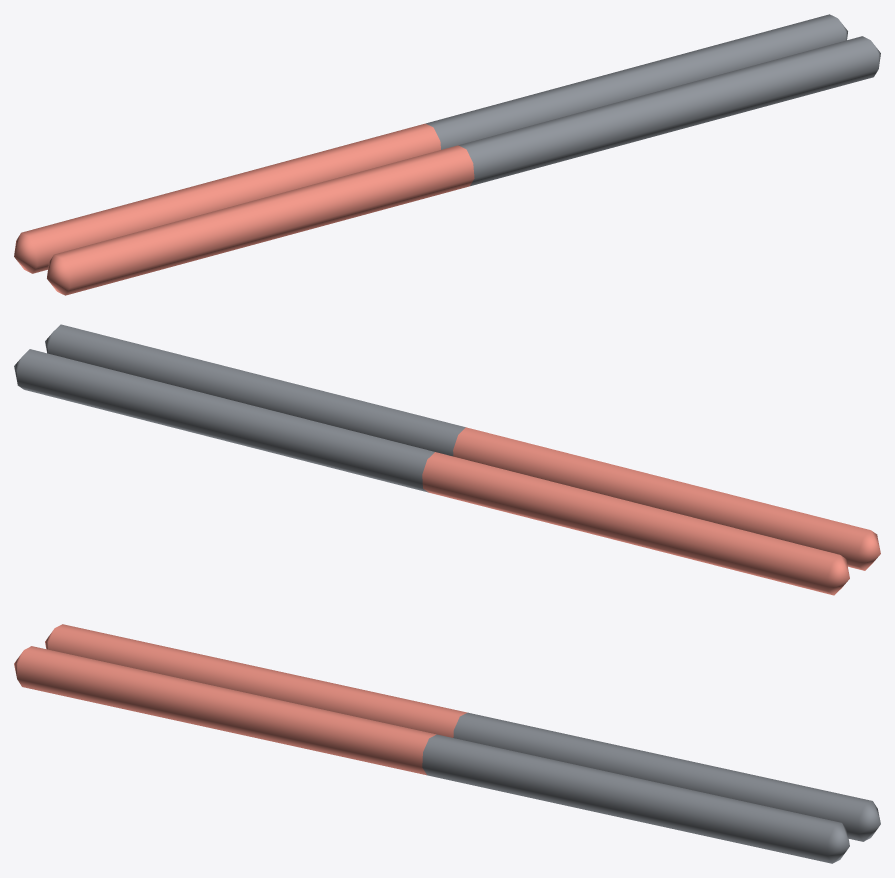
File: pi_napqi_C1O.glb
The picture shows the model from 3 angles, top to bottom: view 1: azimuth 30°, elevation 25°; view 2: azimuth 150°, elevation 25°; view 3: azimuth 330°, elevation 25°; orthographic projection.
Parts seen in each view (by area): view 1: node-geom29, node-geom28, node-geom27, node-geom26; view 2: node-geom27, node-geom26, node-geom29, node-geom28; view 3: node-geom28, node-geom29, node-geom26, node-geom27.
Boxes of the visible parts, x1,y1,x2,y2 form: node-geom29: (47,145,474,295); node-geom28: (458,36,880,186); node-geom27: (14,123,440,273); node-geom26: (426,14,847,149); node-geom27: (422,452,849,595); node-geom26: (14,349,434,492); node-geom29: (453,427,880,570); node-geom28: (45,324,465,456); node-geom28: (422,734,849,863); node-geom29: (14,646,436,775); node-geom26: (453,712,880,841); node-geom27: (45,624,467,737).
Size of the model in its own units: 1.35 by 0.0819 by 0.1643.
